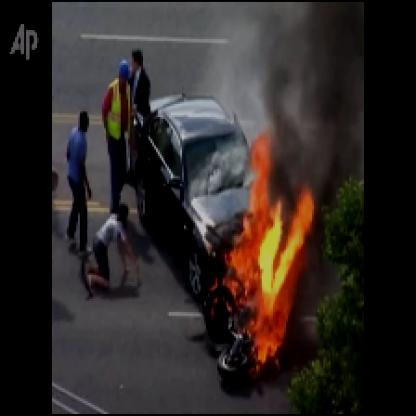Fire: (210, 134, 312, 382)
Smoke: (256, 2, 362, 173)
